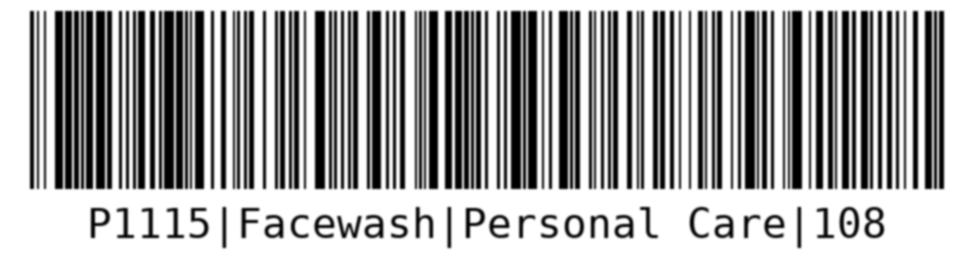milk: (22, 4, 953, 261)
